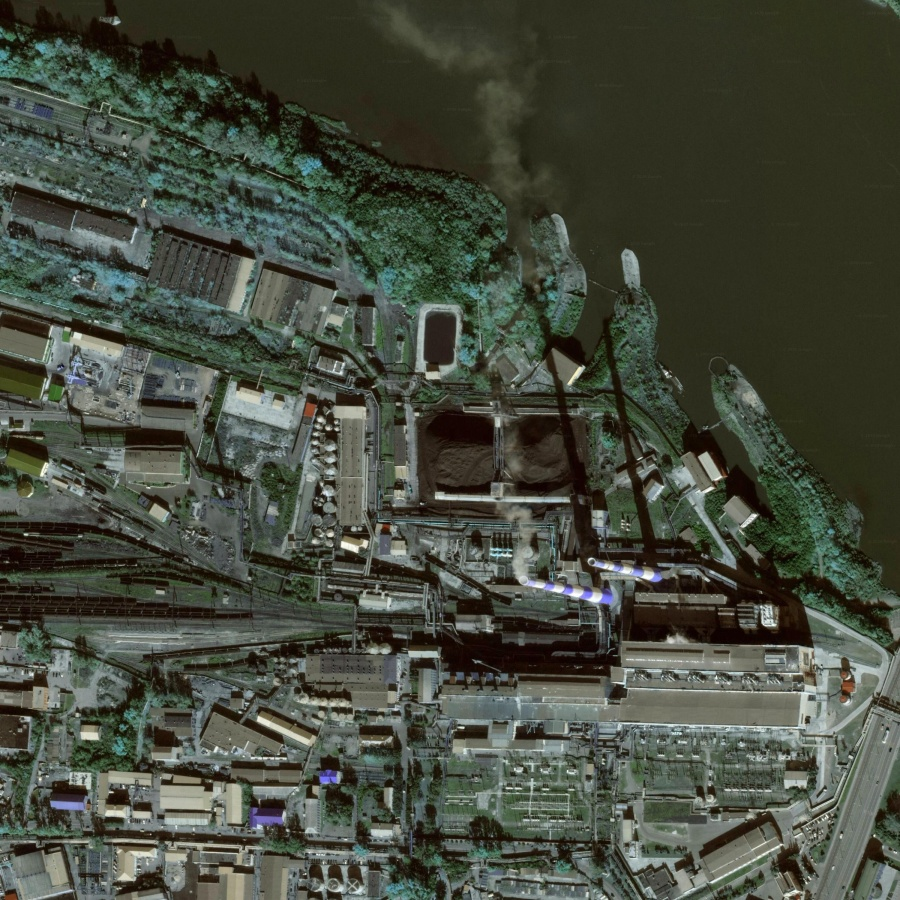PowerPlant: (397, 378, 801, 722)
